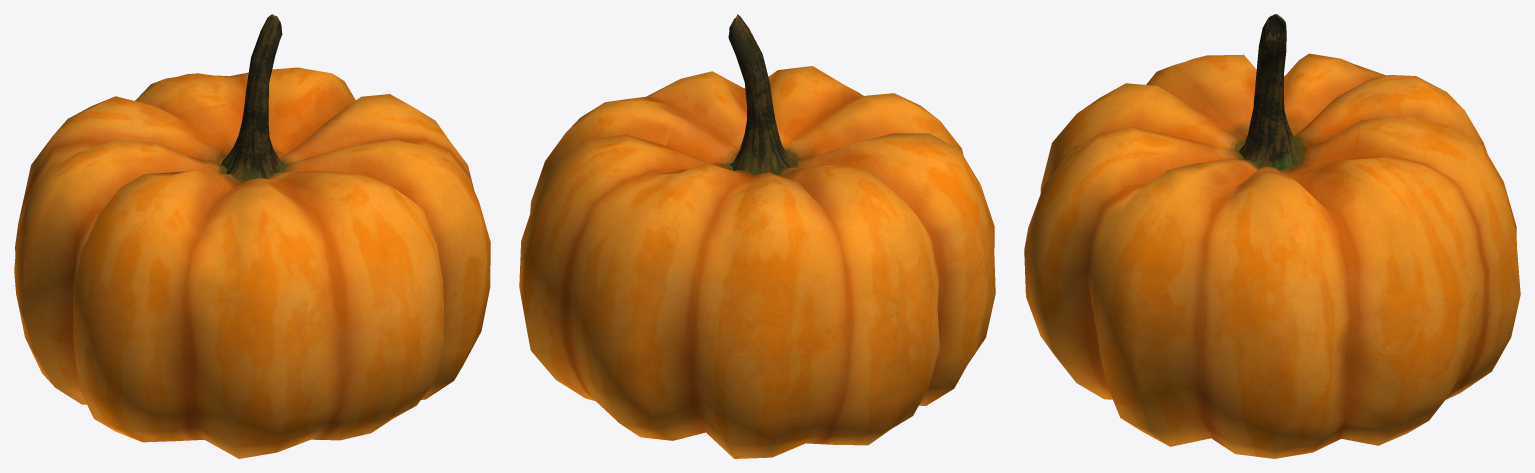
The model's file is testGlb.glb.
The picture shows the model from 3 angles, left to right: view 1: azimuth 30°, elevation 25°; view 2: azimuth 150°, elevation 25°; view 3: azimuth 270°, elevation 25°; orthographic projection. The views are drawn at different scales.
Parts seen in each view (by area): view 1: Pumpkin_Base_LP; view 2: Pumpkin_Base_LP; view 3: Pumpkin_Base_LP.
Boxes of the visible parts, bbox=[...] form: Pumpkin_Base_LP: bbox=[14, 14, 490, 458]; Pumpkin_Base_LP: bbox=[519, 14, 995, 458]; Pumpkin_Base_LP: bbox=[1024, 14, 1520, 458].
Size of the model in its own units: 0.0189 by 0.0161 by 0.0187.
Materials: 1 (1 with a texture image).
